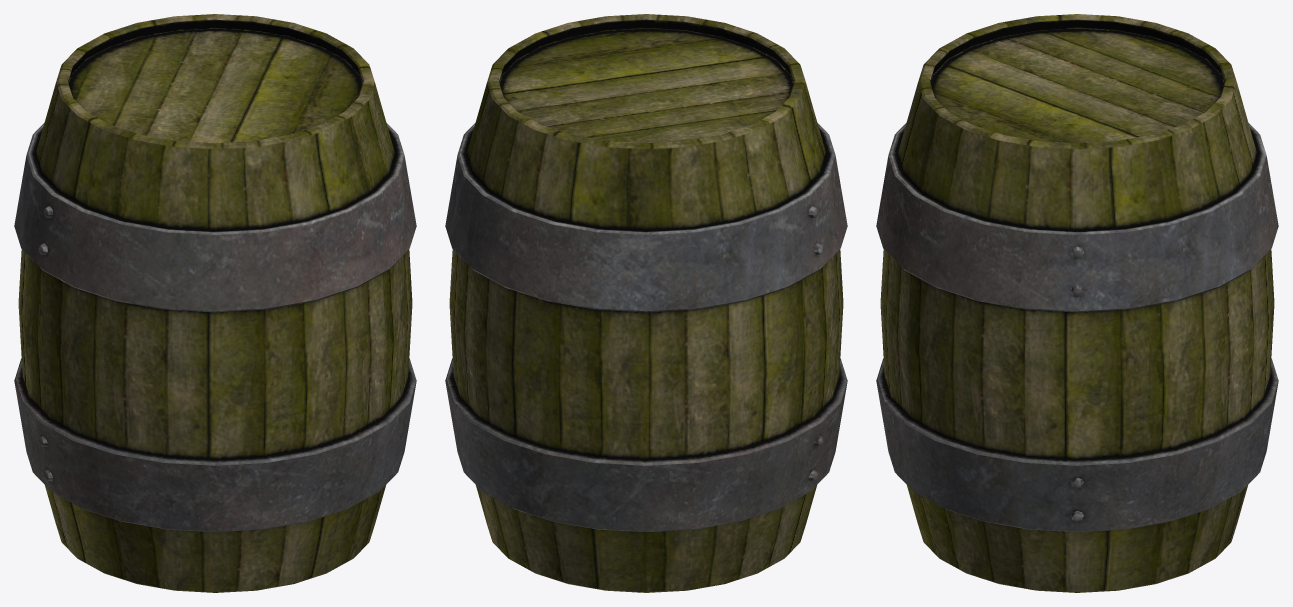
The model's file is barrel.glb.
3 views of the same model, side by side, from view 1: azimuth 30°, elevation 25°; view 2: azimuth 150°, elevation 25°; view 3: azimuth 270°, elevation 25° (orthographic).
Parts seen in each view (by area): view 1: Tube, Cylinder; view 2: Tube, Cylinder; view 3: Tube, Cylinder.
Boxes of the visible parts, x1=… form: Tube: x1=14, y1=14, x2=416, y2=592; Cylinder: x1=68, y1=28, x2=362, y2=143; Tube: x1=445, y1=14, x2=847, y2=592; Cylinder: x1=499, y1=28, x2=793, y2=143; Tube: x1=876, y1=14, x2=1278, y2=592; Cylinder: x1=930, y1=28, x2=1224, y2=143.
Bounding box in the file's own units: 0.7833 × 0.9484 × 0.775.
1 material, 1 textured.
